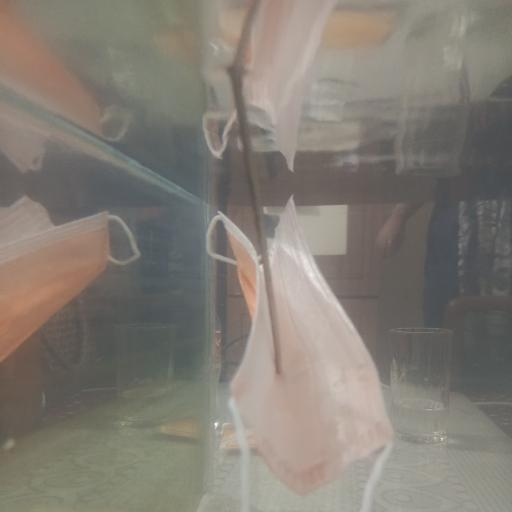mask: (202, 190, 414, 512), (2, 190, 144, 360)
